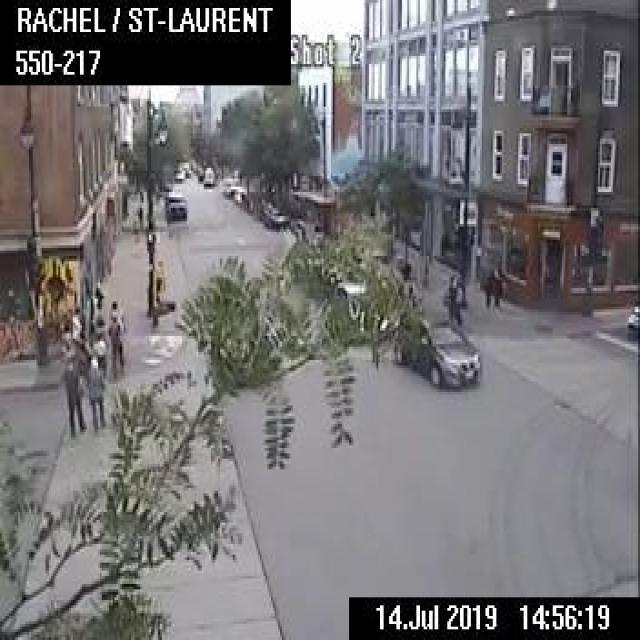pedestrian: (62, 352, 84, 432), (86, 353, 106, 427), (108, 317, 122, 376), (443, 271, 455, 322), (92, 334, 104, 379), (491, 264, 503, 306), (454, 271, 464, 321), (70, 302, 82, 338), (481, 270, 491, 306)
vehicle: (391, 315, 482, 389), (622, 299, 638, 341), (162, 192, 185, 220), (265, 208, 291, 227), (173, 167, 184, 179), (201, 176, 213, 184)
